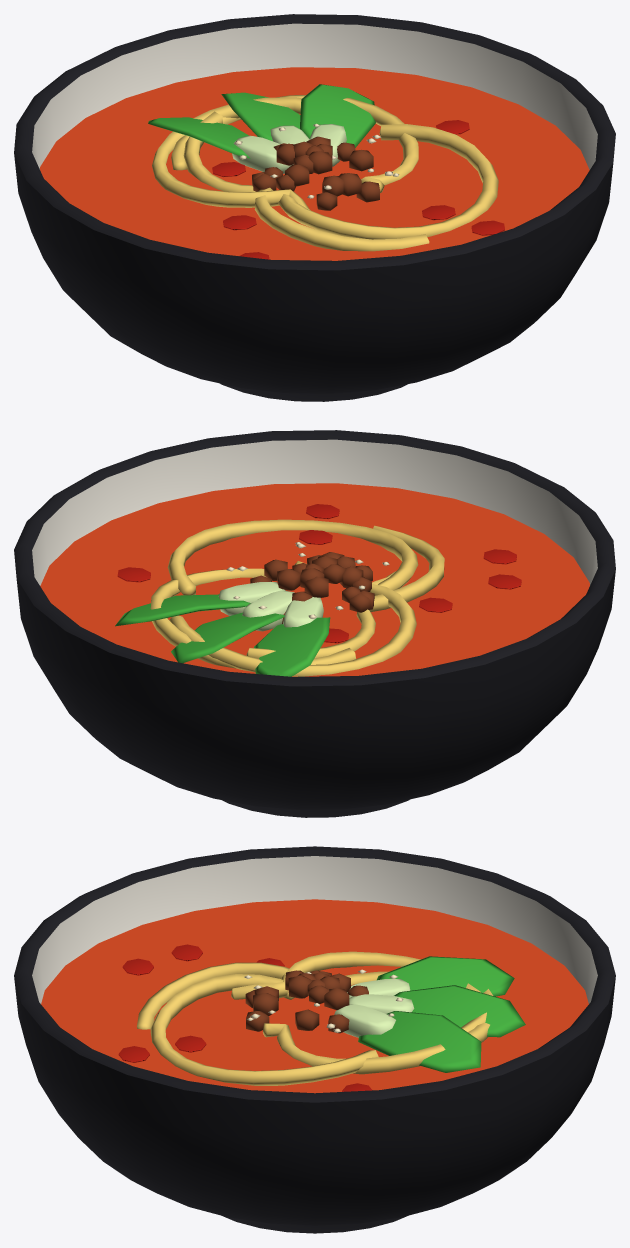
The picture shows the model from 3 angles, top to bottom: view 1: azimuth 30°, elevation 25°; view 2: azimuth 150°, elevation 25°; view 3: azimuth 270°, elevation 25°; orthographic projection.
Visible parts, largest first — view 1: bowl_outer, surface, bowl_inner, bowl_rim, noodles (×4), bok_leaf (×3), bok_stem (×3); view 2: bowl_outer, surface, bowl_inner, bowl_rim, noodles (×4), bok_leaf (×3), bok_stem (×3); view 3: bowl_outer, surface, bowl_inner, bowl_rim, noodles (×4), bok_leaf (×3), bok_stem (×3).
Boxes of the visible parts, x1,y1,x2,y2 form: bowl_outer: (14,153,613,401); surface: (40,67,589,260); bowl_inner: (32,23,597,169); bowl_rim: (14,14,615,270); noodles (×4): (152,95,498,251); bok_leaf (×3): (148,84,375,158); bok_stem (×3): (232,124,346,173); bowl_outer: (16,569,615,817); surface: (40,483,589,676); bowl_inner: (32,439,597,585); bowl_rim: (14,430,615,686); noodles (×4): (150,519,444,676); bok_leaf (×3): (115,594,330,676); bok_stem (×3): (218,582,323,631); bowl_outer: (14,976,615,1233); surface: (41,899,588,1093); bowl_inner: (32,856,597,1003); bowl_rim: (14,846,615,1102); noodles (×4): (136,951,493,1085); bok_leaf (×3): (358,956,525,1072); bok_stem (×3): (334,979,414,1037).
Size of the model in its own units: 0.2 by 0.0771 by 0.2.
